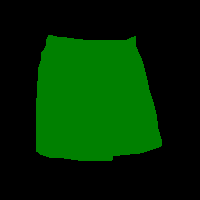mutande: (36, 34, 162, 161)
